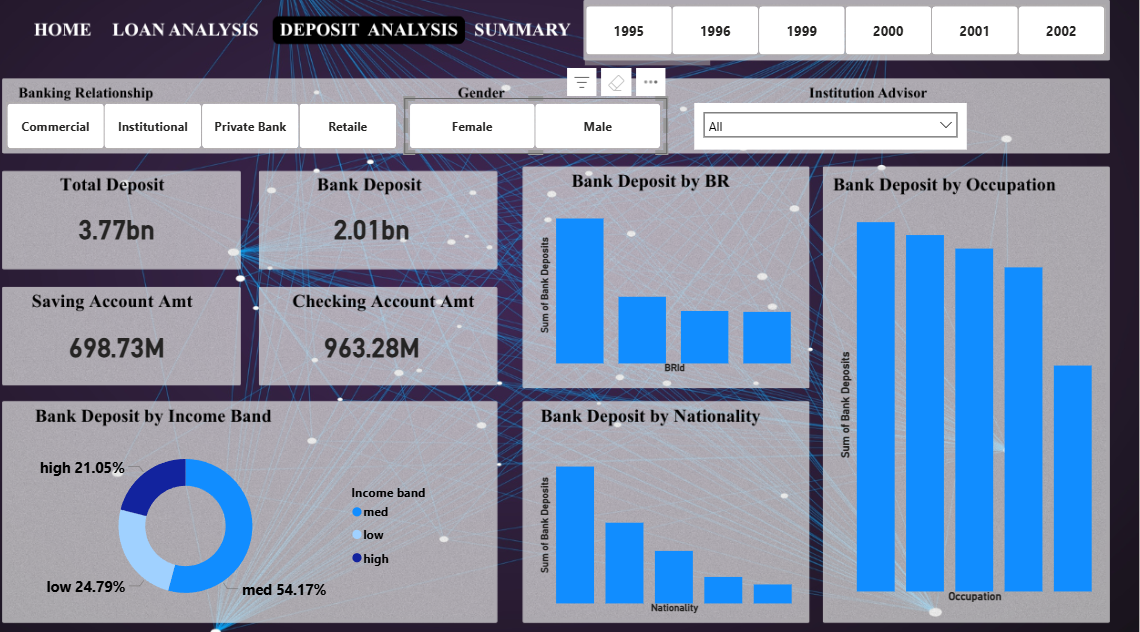

Layout of this report page (visuals, bound fields, positions):
{"tool":"powerbi","page":{"name":"Deposit Analysis","canvas":[1280,720],"ordinal":2},"visuals":[{"type":"actionButton","box":[58.1,24.4,79.1,40.7],"z":0},{"type":"actionButton","box":[326.7,25.6,204.7,39.5],"z":1000},{"type":"actionButton","box":[541.9,24.4,124.4,39.5],"z":2000},{"type":"card","fields":{"Values":["banking_case banking.Total Deposit"]},"box":[46.7,229.2,222.3,68.6],"z":3000},{"type":"card","fields":{"Values":["Sum(banking_case banking.Bank Deposits)"]},"box":[326.6,229.2,222.3,68.6],"z":4000},{"type":"card","fields":{"Values":["Sum(banking_case banking.Saving Accounts)"]},"box":[46.7,359.5,222.3,68.6],"z":5000},{"type":"card","fields":{"Values":["Sum(banking_case banking.Checking Accounts)"]},"box":[326.6,359.5,222.3,68.6],"z":6000},{"type":"advancedSlicerVisual","fields":{"Values":["banking_case banking.Year of joining"]},"box":[667,14,585.9,78.2],"z":7000},{"type":"donutChart","fields":{"Category":["banking_case banking.Income band"],"Y":["Sum(banking_case banking.Bank Deposits)"]},"box":[46.7,489.9,477.5,201.7],"z":8000},{"type":"clusteredColumnChart","fields":{"Category":["banking_case banking.BRId"],"Y":["Sum(banking_case banking.Bank Deposits)"]},"box":[617.5,226.4,288.2,201.7],"z":9000},{"type":"clusteredColumnChart","fields":{"Category":["banking_case banking.Nationality"],"Y":["Sum(banking_case banking.Bank Deposits)"]},"box":[617.5,489.9,288.2,201.7],"z":10000},{"type":"advancedSlicerVisual","fields":{"Values":["banking_case banking.BRId"]},"box":[31.6,120.8,441.9,61.7],"z":11000},{"type":"advancedSlicerVisual","fields":{"Values":["banking_case banking.GenderId"]},"box":[473.4,120.8,288.2,61.7],"z":12000},{"type":"slicer","fields":{"Values":["banking_case banking.IAId"]},"box":[791.8,126.2,299,51],"z":13000},{"type":"clusteredColumnChart","fields":{"Category":["banking_case banking.Occupation"],"Y":["Sum(banking_case banking.Bank Deposits)"]},"box":[946.8,238.8,288.2,440.5],"z":14000},{"type":"actionButton","box":[146.8,27.4,167.4,37],"z":15000}]}

Visuals, with their boxes in screenshot pixels (x1, y1, x2, y2), scaled from the page's 1280x720 canvas onto the 1140x632 screenshot:
actionButton: 52 21 122 57
actionButton: 291 22 473 57
actionButton: 483 21 593 56
card - banking_case banking.Total Deposit: 42 201 240 261
card - Sum(banking_case banking.Bank Deposits): 291 201 489 261
card - Sum(banking_case banking.Saving Accounts): 42 316 240 376
card - Sum(banking_case banking.Checking Accounts): 291 316 489 376
advancedSlicerVisual - banking_case banking.Year of joining: 594 12 1116 81
donutChart - banking_case banking.Income band x Sum(banking_case banking.Bank Deposits): 42 430 467 607
clusteredColumnChart - banking_case banking.BRId x Sum(banking_case banking.Bank Deposits): 550 199 807 376
clusteredColumnChart - banking_case banking.Nationality x Sum(banking_case banking.Bank Deposits): 550 430 807 607
advancedSlicerVisual - banking_case banking.BRId: 28 106 422 160
advancedSlicerVisual - banking_case banking.GenderId: 422 106 678 160
slicer - banking_case banking.IAId: 705 111 971 156
clusteredColumnChart - banking_case banking.Occupation x Sum(banking_case banking.Bank Deposits): 843 210 1100 596
actionButton: 131 24 280 57
